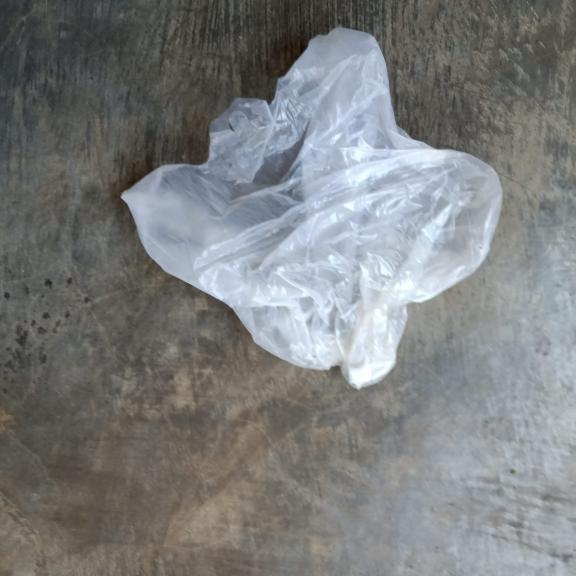Plastik: (121, 26, 501, 390)
